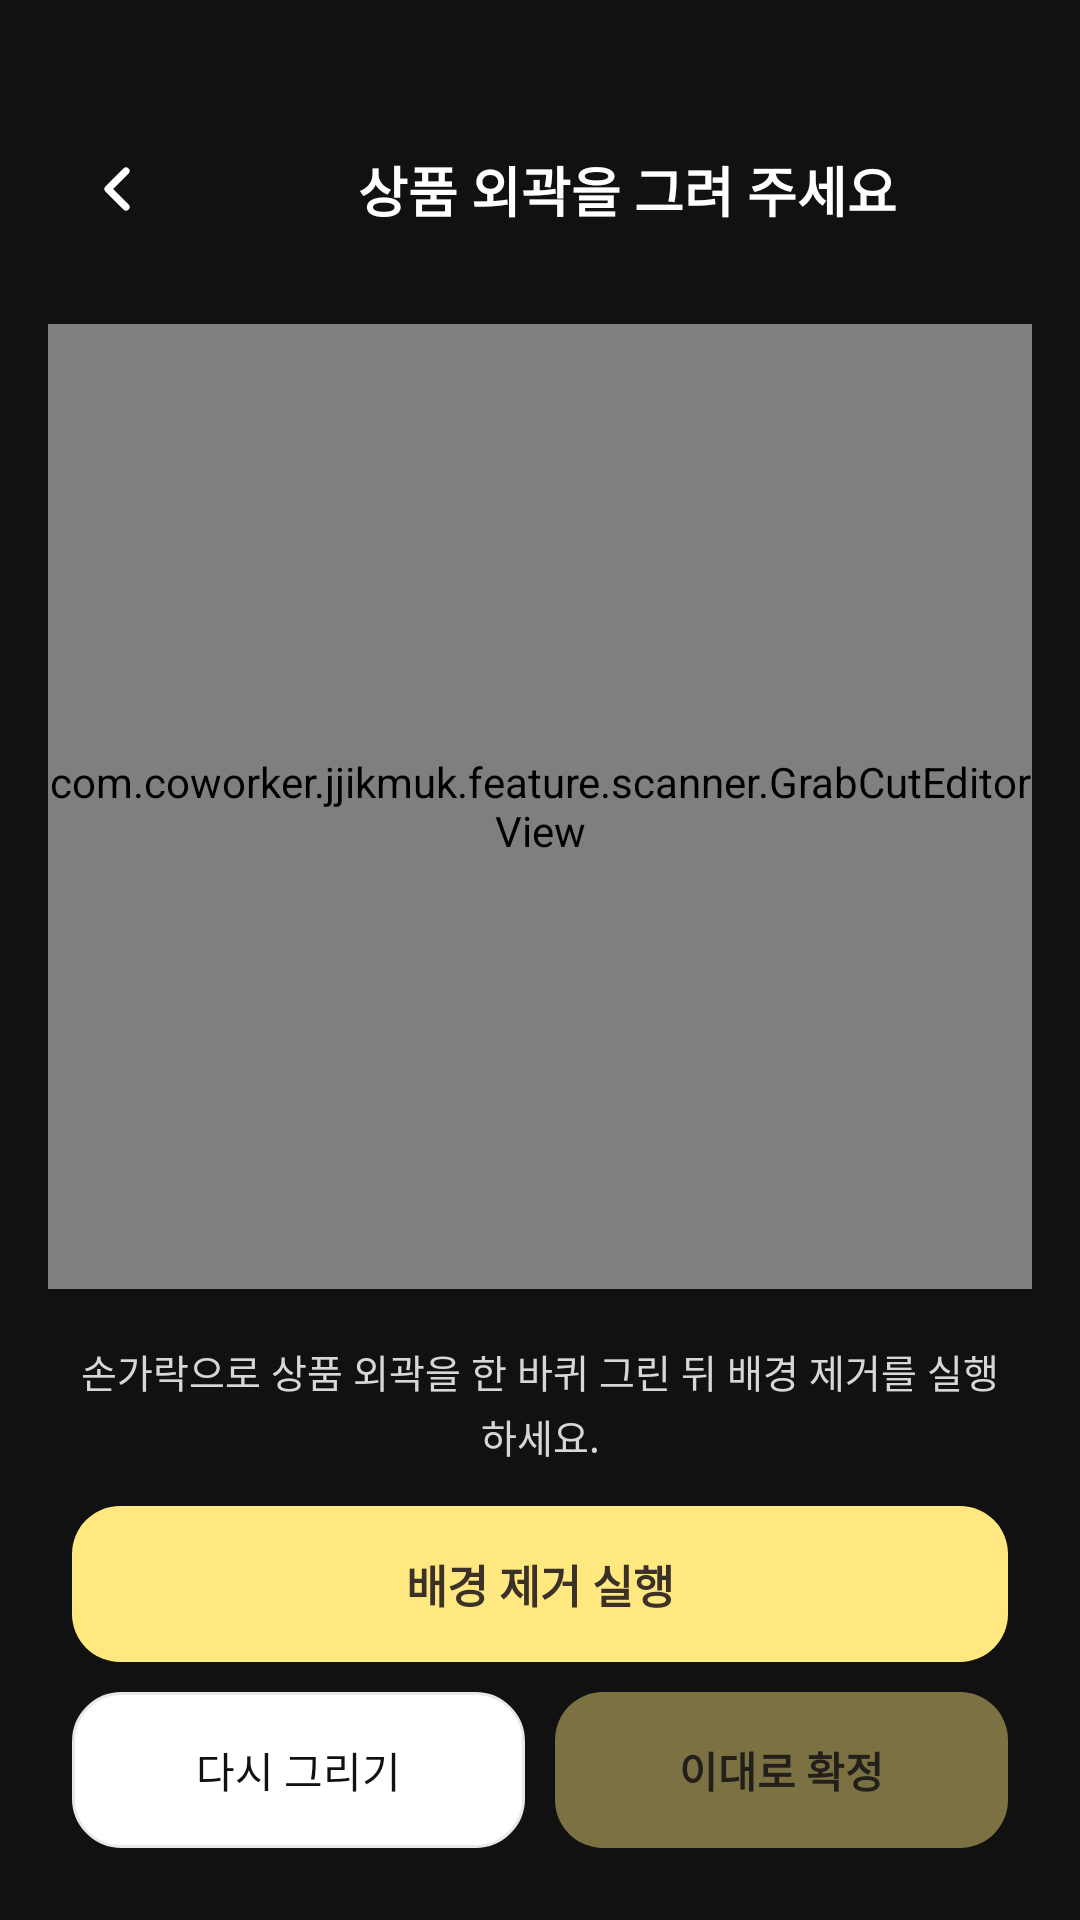

Icon click points for this 1080 × 1920 phone screenshot, format (x,y):
뒤로가기: (117,189)
